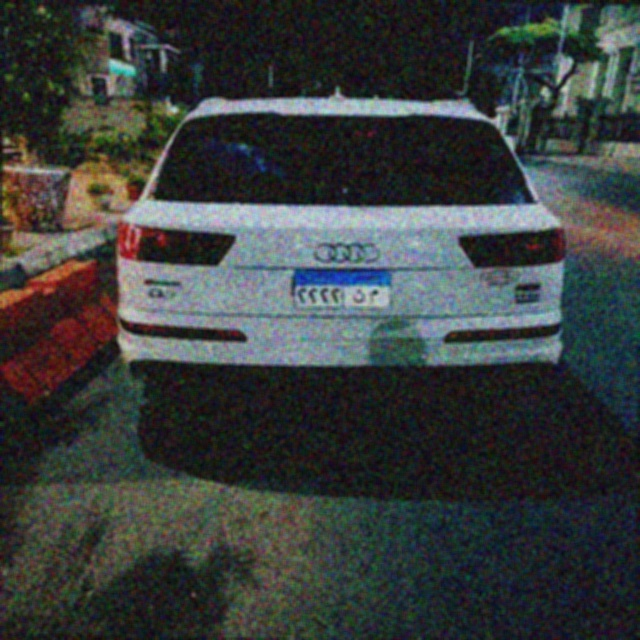License Plate: (291, 268, 393, 312)
